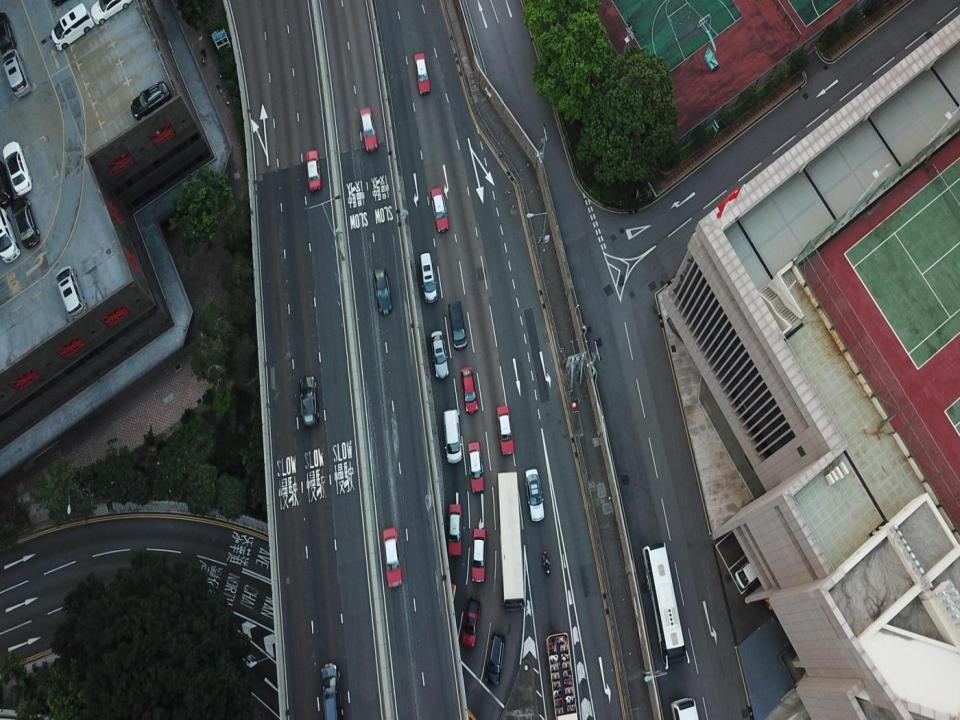bus: (643, 542, 689, 670), (496, 472, 526, 610), (546, 631, 578, 719)
car: (130, 80, 171, 121), (2, 141, 32, 196), (56, 264, 86, 319), (11, 197, 40, 250), (2, 49, 32, 98), (321, 662, 343, 719), (382, 526, 402, 588), (0, 207, 20, 264), (524, 468, 544, 522), (90, 1, 134, 25), (300, 375, 320, 426), (486, 632, 505, 684), (462, 598, 482, 647), (460, 366, 479, 414), (373, 267, 392, 315), (496, 406, 514, 455), (430, 186, 449, 232), (431, 330, 449, 378), (359, 106, 378, 151), (468, 442, 484, 492), (448, 504, 463, 555), (472, 528, 486, 582), (305, 149, 322, 192), (413, 52, 430, 95), (0, 11, 16, 53), (1, 161, 13, 207)
van: (51, 3, 93, 49), (735, 549, 766, 589), (443, 410, 462, 463), (420, 252, 439, 303), (448, 300, 466, 350)
